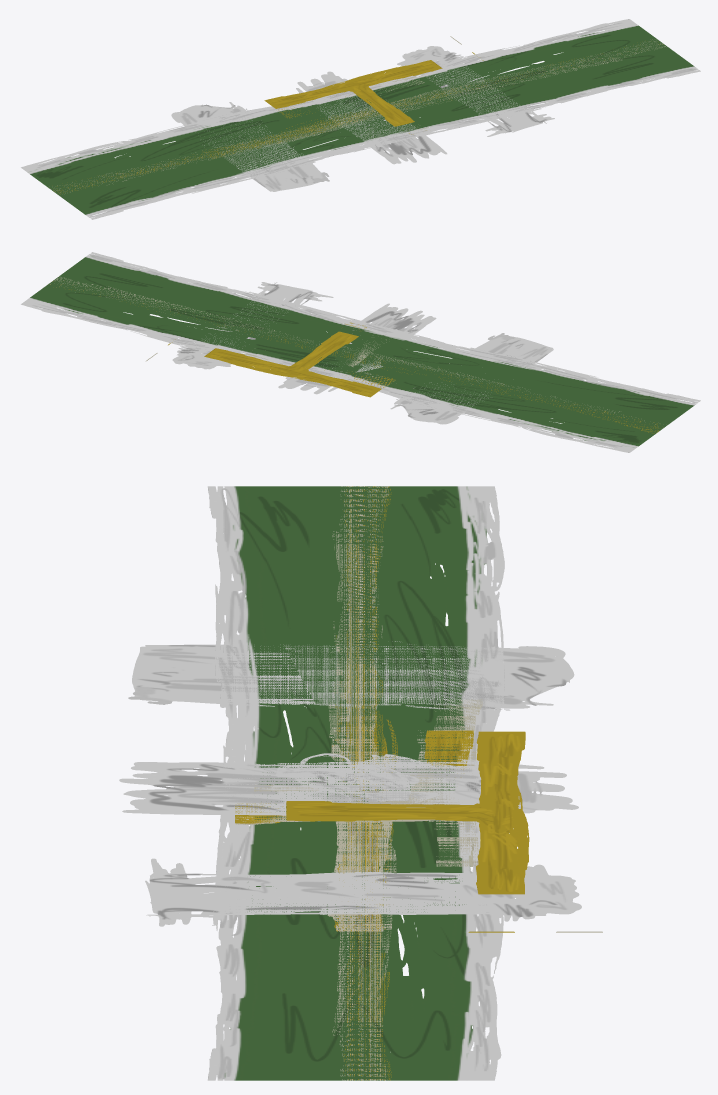
The model's file is OB_P_Decals_routes_001A.fbx.
3 renders of one model, top to bottom at view 1: azimuth 30°, elevation 25°; view 2: azimuth 150°, elevation 25°; view 3: azimuth 270°, elevation 25°, orthographic. The views are drawn at different scales.
Parts seen in each view (by area): view 1: Object001, Object008, Object007, Object002, Object003, Object009; view 2: Object001, Object008, Object007, Object002; view 3: Object001, Object008, Object007, Object002, Object003, Object009, Plane001, Object004, Object005, Object010, Object013, Object006.
Boxes of the visible parts, x1,y1,x2,y2 form: Object001: (21,19,700,219); Object008: (171,36,554,191); Object007: (264,60,442,126); Object002: (51,39,665,192); Object003: (53,44,659,194); Object009: (229,91,463,153); Object001: (21,252,700,452); Object008: (145,282,553,424); Object007: (204,331,381,397); Object002: (50,276,655,424); Object001: (207,486,504,1080); Object008: (119,641,602,932); Object007: (286,731,529,894); Object002: (332,486,396,1080); Object003: (343,486,397,1080); Object009: (327,635,392,931); Plane001: (276,764,438,804); Object004: (254,699,482,866); Object005: (235,730,473,823); Object010: (332,635,388,931); Object013: (298,753,419,802); Object006: (235,730,460,824).
Bounding box in the file's own units: 118 × 5.01e-05 × 44.22.
